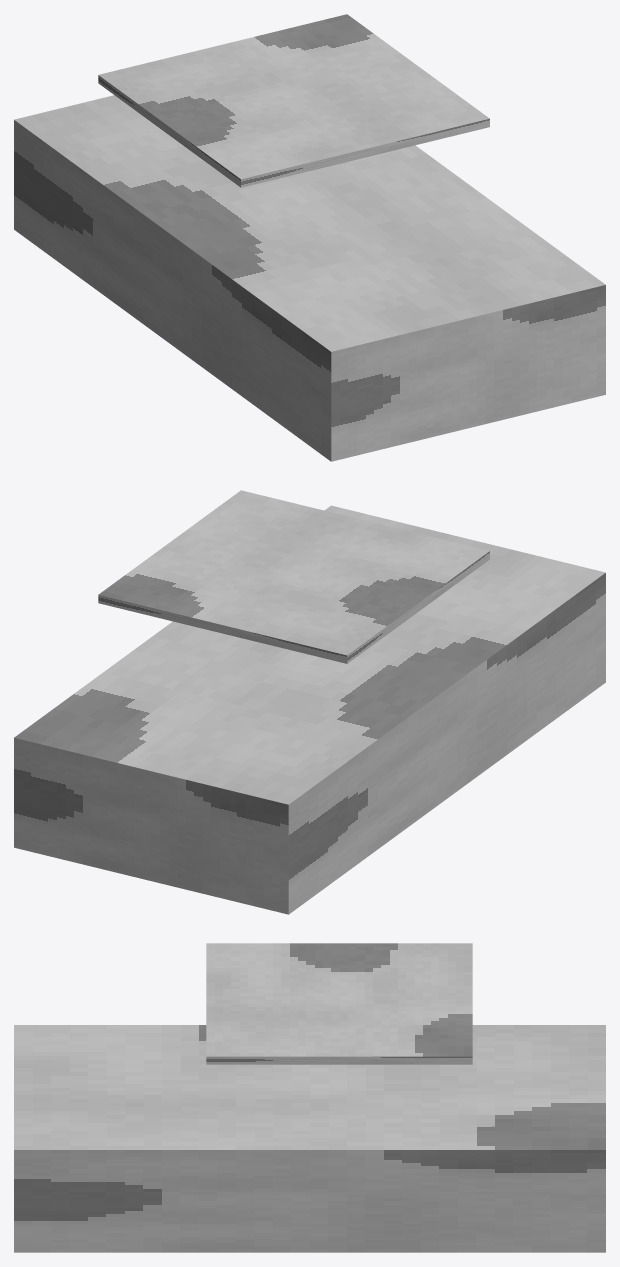
File: paint.obj
3 renders of one model, top to bottom at view 1: azimuth 30°, elevation 25°; view 2: azimuth 150°, elevation 25°; view 3: azimuth 270°, elevation 25°, orthographic. The views are drawn at different scales.
Visible parts, largest first — view 1: part0, part1; view 2: part0, part1; view 3: part0, part1.
Boxes of the visible parts, x1,y1,x2,y2 form: part0: (14,95,605,461); part1: (98,14,489,187); part0: (14,505,605,914); part1: (98,490,489,663); part0: (14,1025,605,1252); part1: (206,943,472,1064).
Size of the model in its own units: 1.7 by 1.21 by 3.4.
2 materials, 2 textured.
